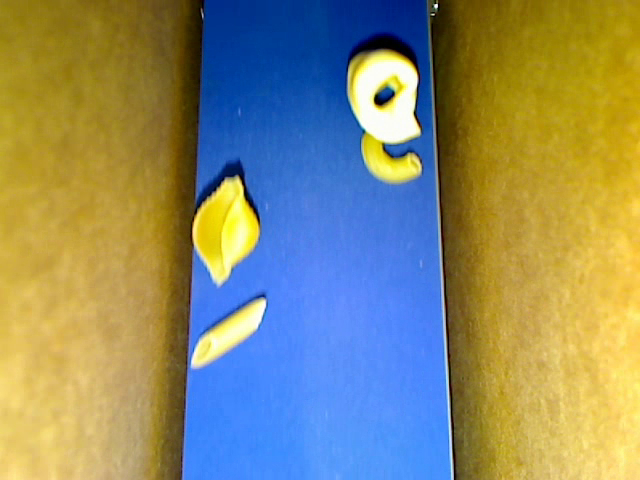elbow: (361, 129, 422, 183)
penne: (190, 296, 266, 369)
shell: (192, 174, 259, 288)
tortellini: (347, 50, 420, 142)
